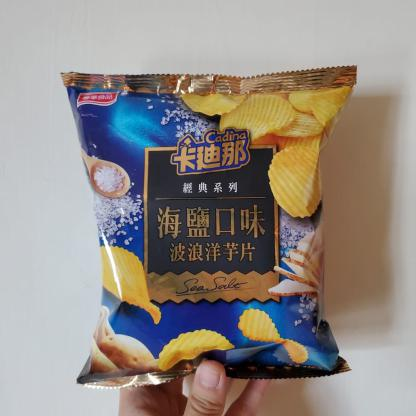potatochip: (57, 61, 366, 393)
